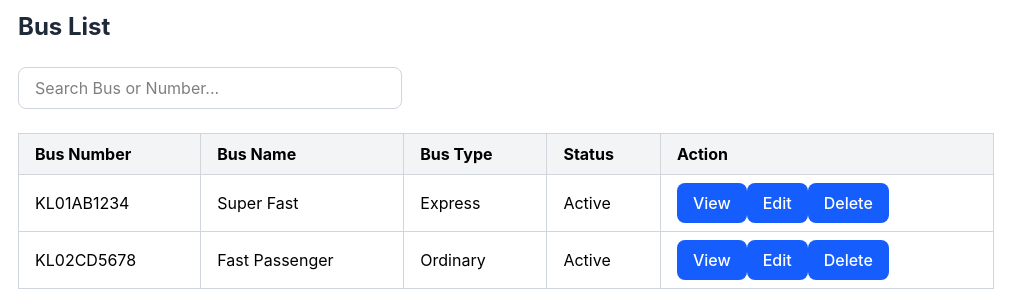
BusList - step 1 › should filter buses by bus name
Expected: the text "Super Fast" is shown, [201,174,404,232]
Type "Super" into the field at (210, 88), box [18,67,402,109]
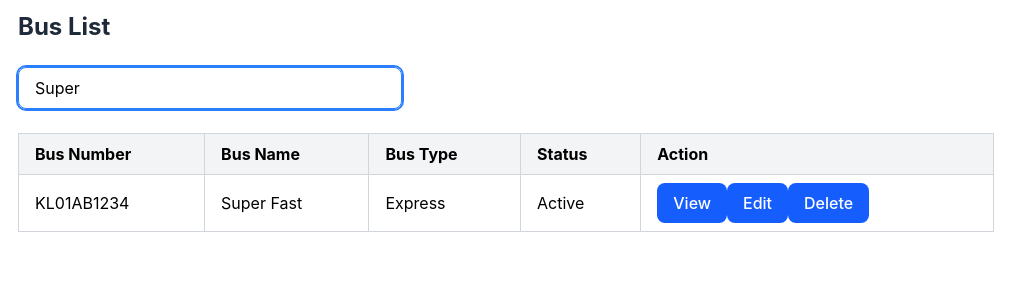
Expected: the text "Super Fast" is shown, [205,174,369,232]
Result: the text "Fast Passenger" is gone
